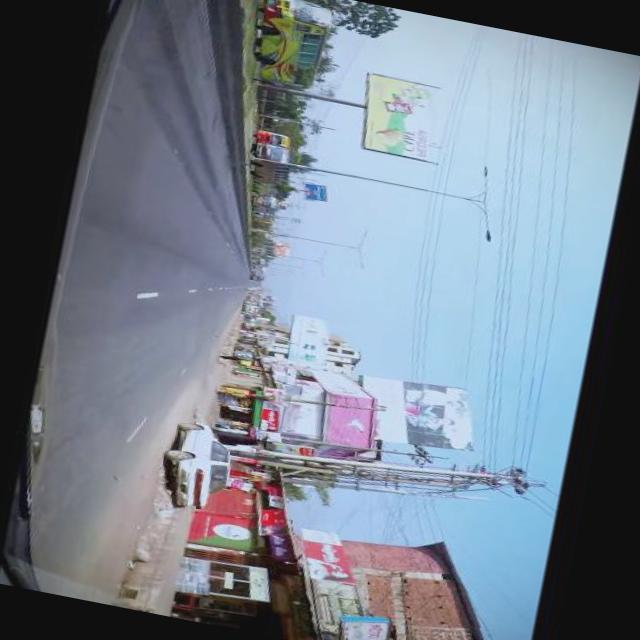bus: (250, 0, 336, 93), (249, 143, 297, 190), (258, 132, 294, 150), (250, 196, 278, 217), (254, 182, 282, 201), (243, 304, 261, 316)
car: (156, 418, 240, 518)
